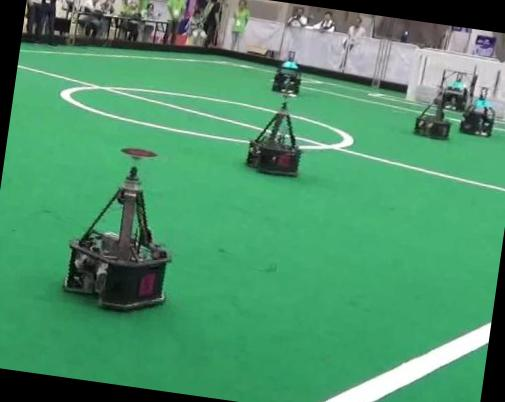goal: (404, 49, 422, 102)
robot: (62, 166, 169, 311), (245, 106, 299, 175), (414, 79, 451, 139), (459, 91, 494, 136), (272, 51, 301, 95), (442, 72, 469, 111)
